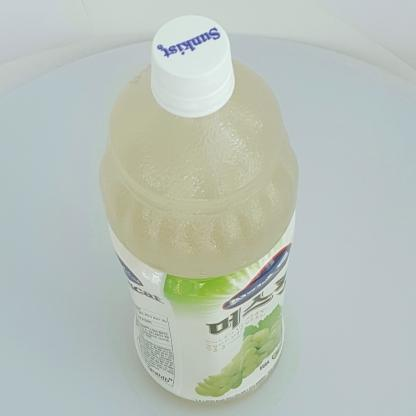-------1-5L: (99, 15, 299, 405)
